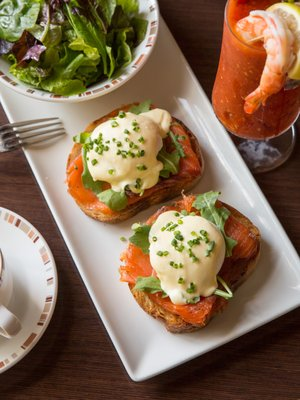sushi: (0, 0, 159, 120)
